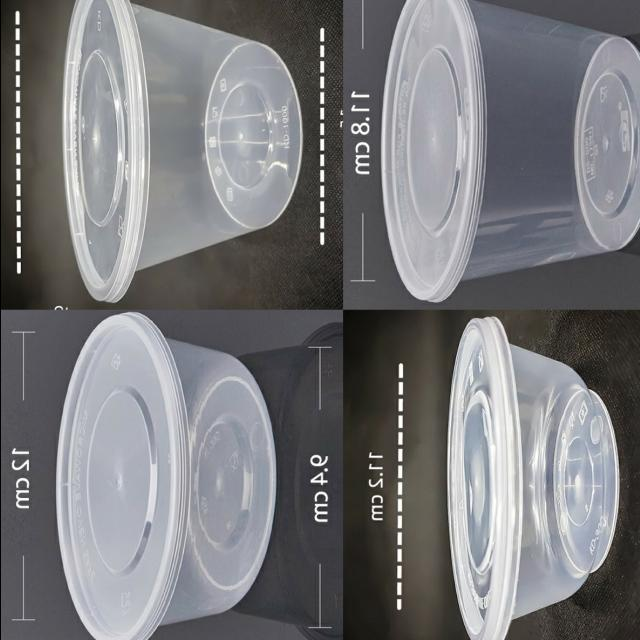plastik: (380, 0, 640, 302), (56, 312, 275, 640), (62, 0, 301, 300), (446, 316, 618, 640)
